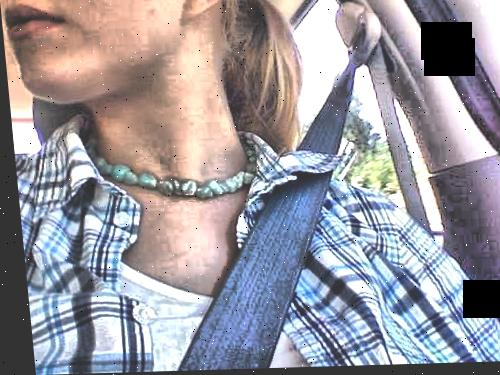seatbelt: (177, 51, 427, 314)
